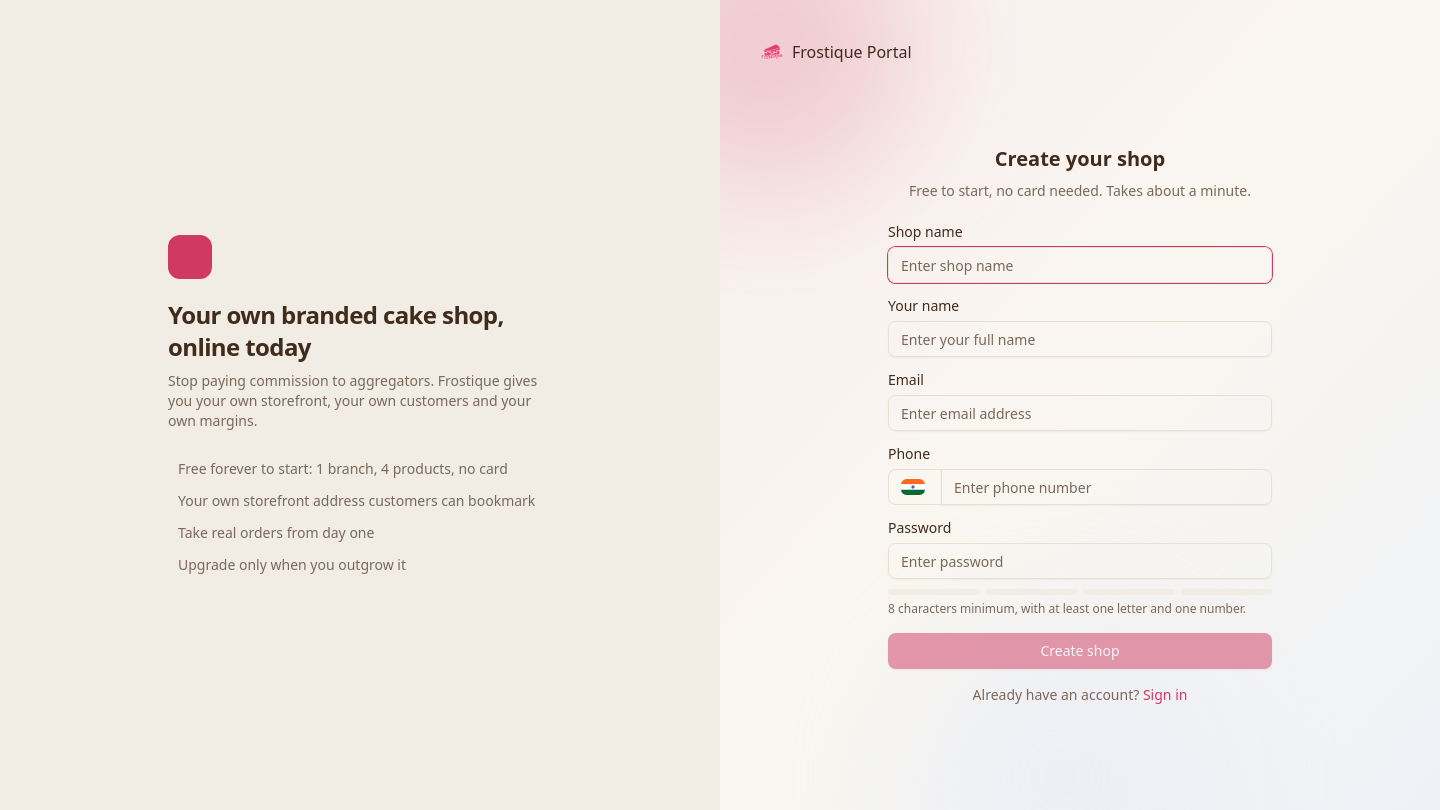
Scenario: RegisterPage: storefront address › shows the suffixed address a taken name will get, without blocking
This screenshot has width=1440, height=810.
Type "Golden Cake" into the field labelled "Shop name". click: (1080, 265)
box: [888,247,1272,283]
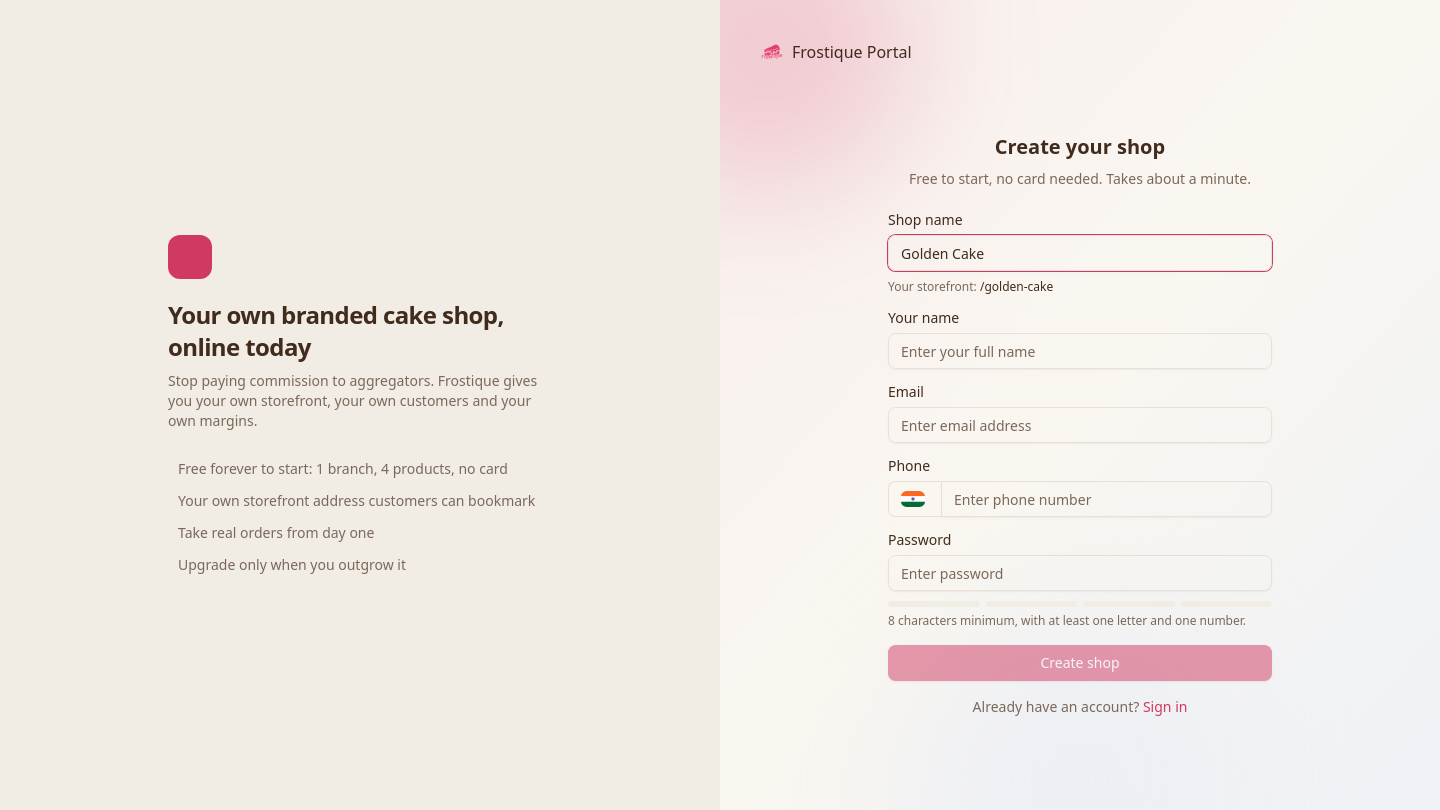
Type "Asha Mehta" into the field labelled "Your name". click: (1080, 351)
box: [888,333,1272,369]
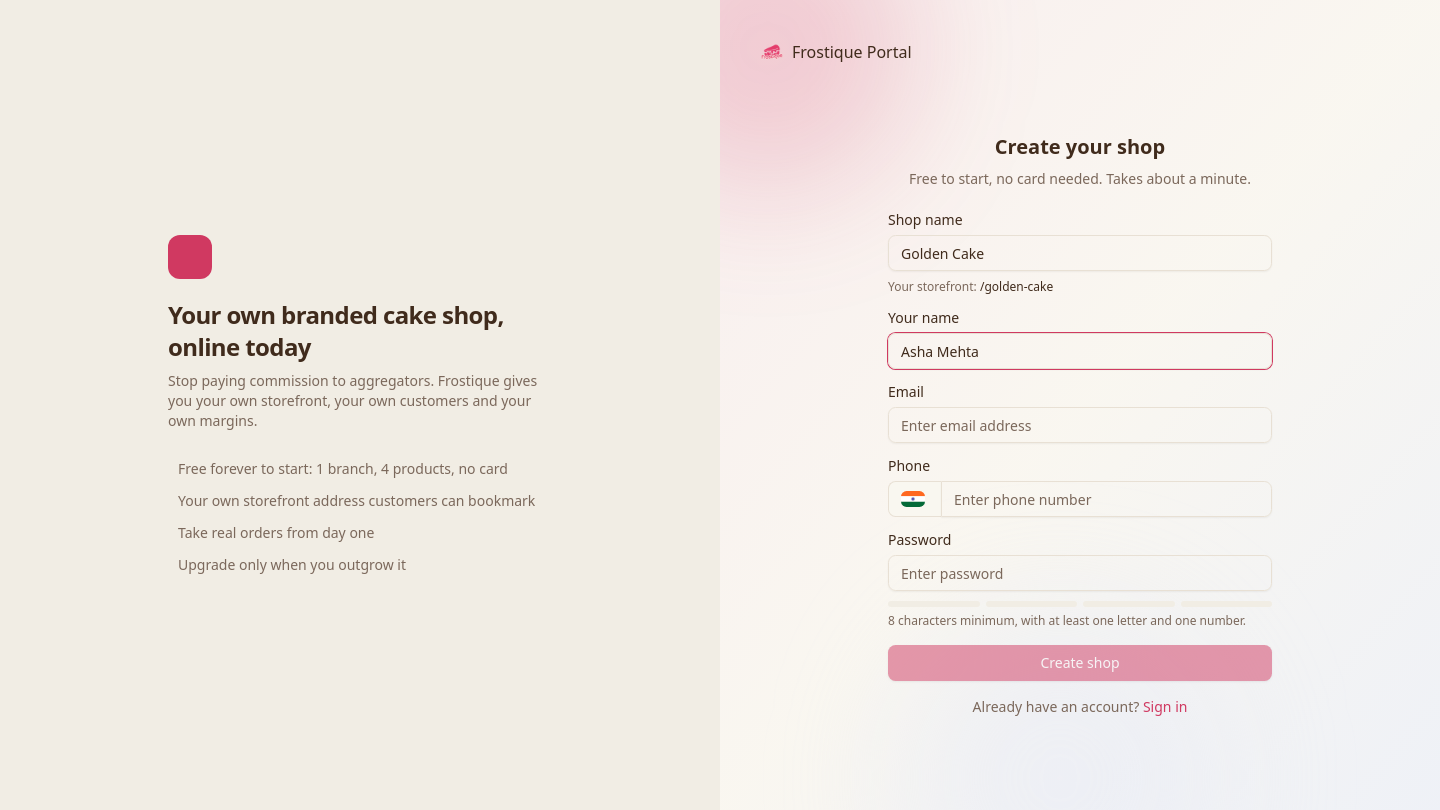
Type "asha@divinecake.com" into the field labelled "Email". click: (1080, 425)
box: [888,407,1272,443]
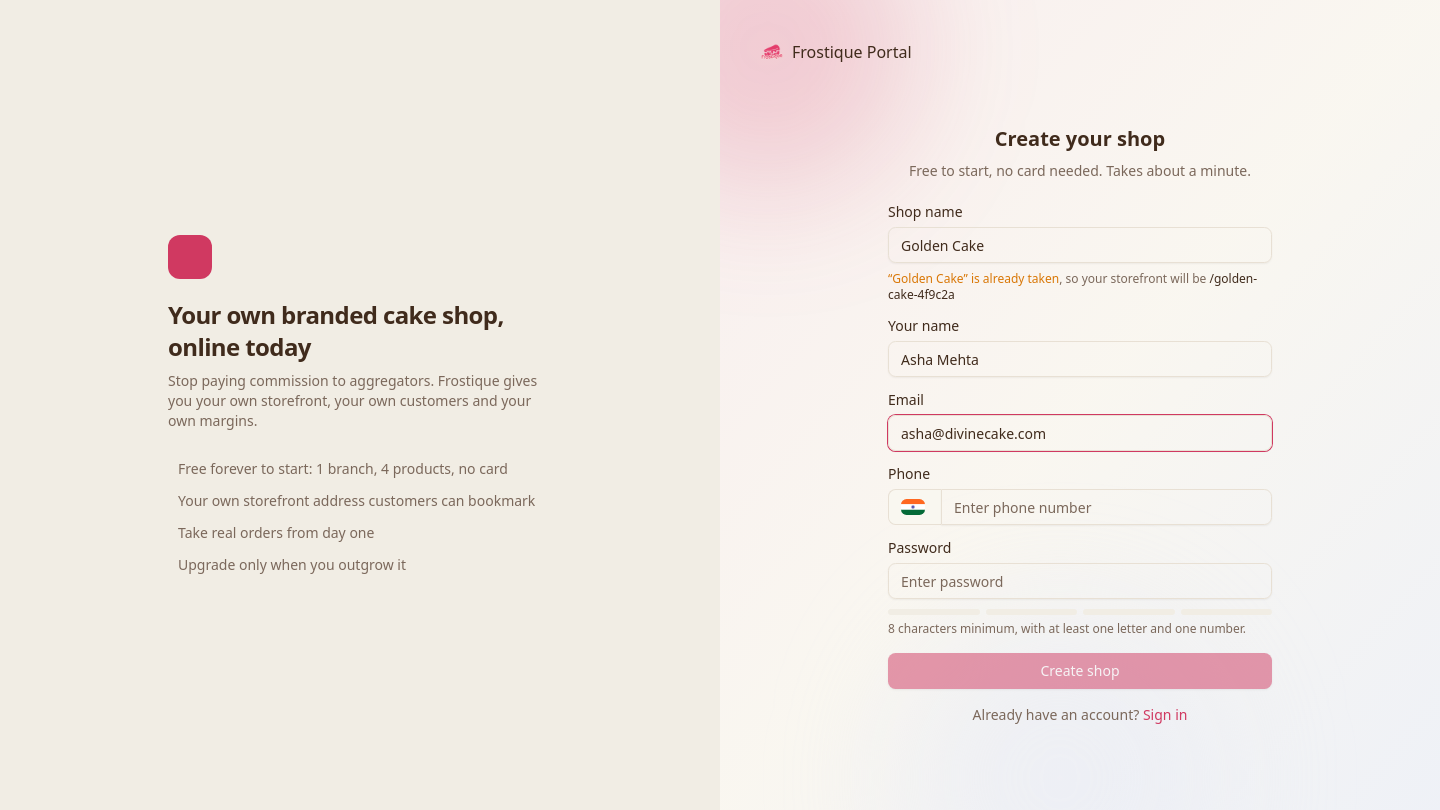
Type "9812345678" into the field labelled "Phone". click: (1106, 507)
box: [941,489,1272,525]
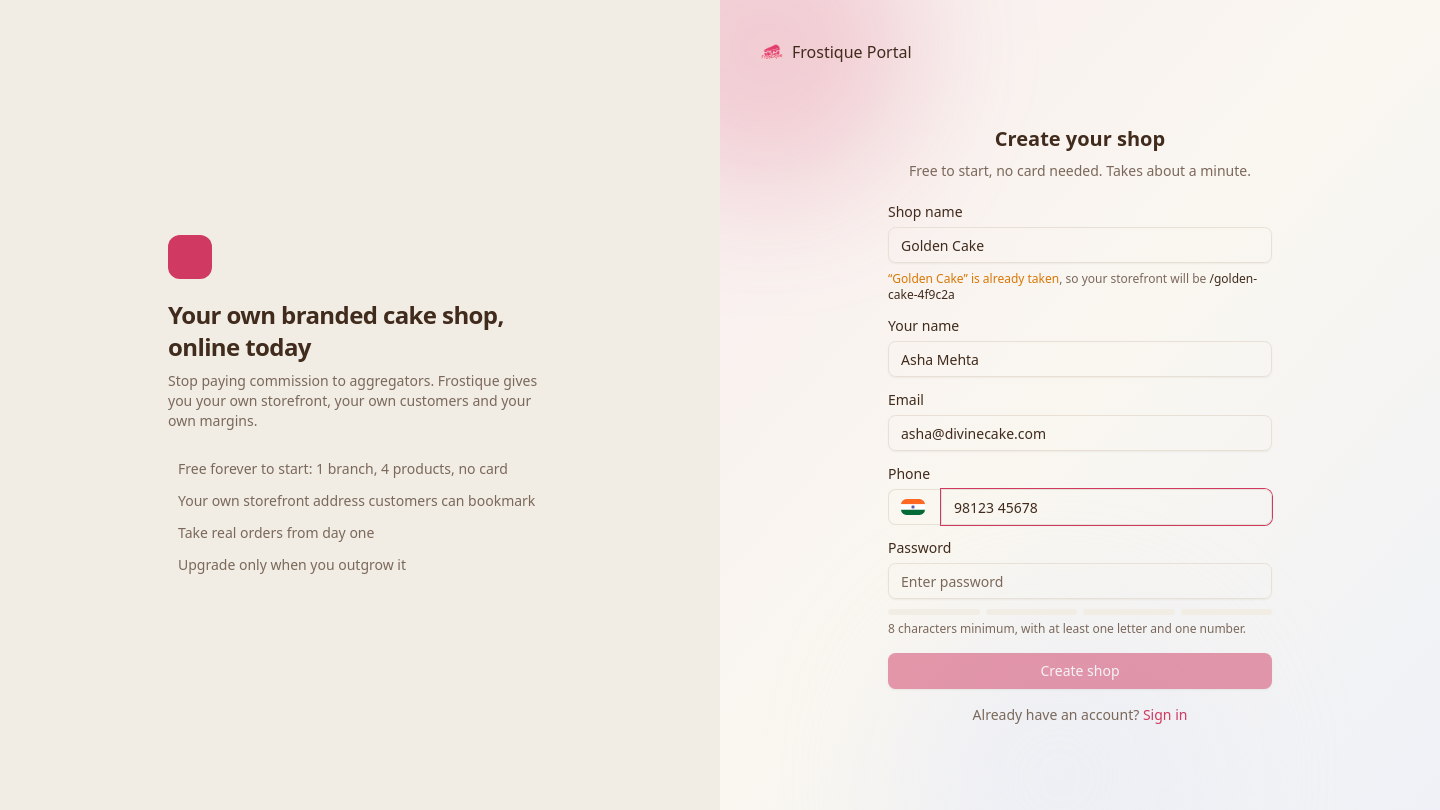
Type "Str0ngPass1" into the password field labelled "Password". click: (1080, 581)
box: [888,563,1272,599]
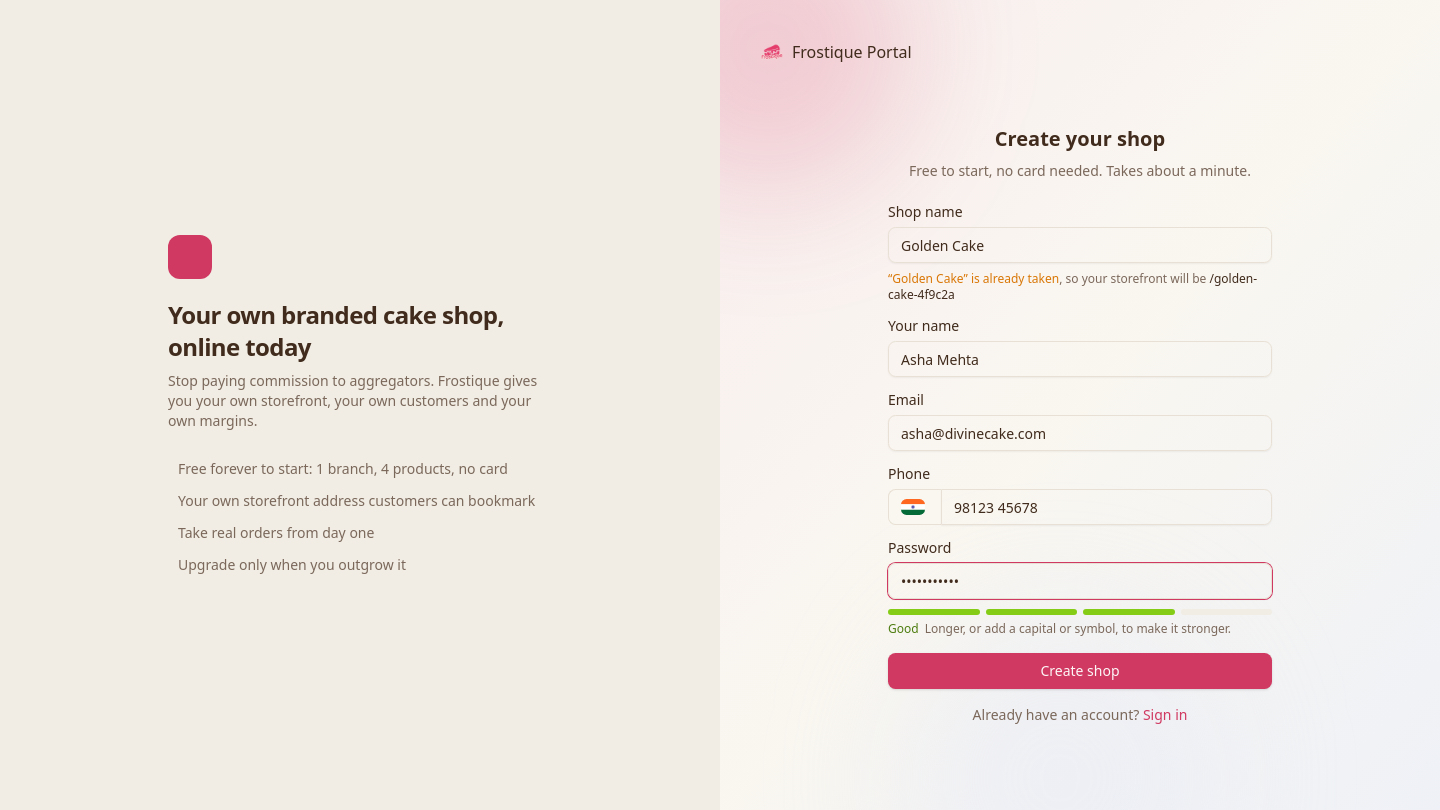
Result: the text "“Golden Cake” is already taken" is shown at [888,270,1059,287]
Result: the text "/golden-cake-4f9c2a" is shown at [888,270,1257,303]
Result: the button "Create shop" is enabled at [888,653,1272,689]
